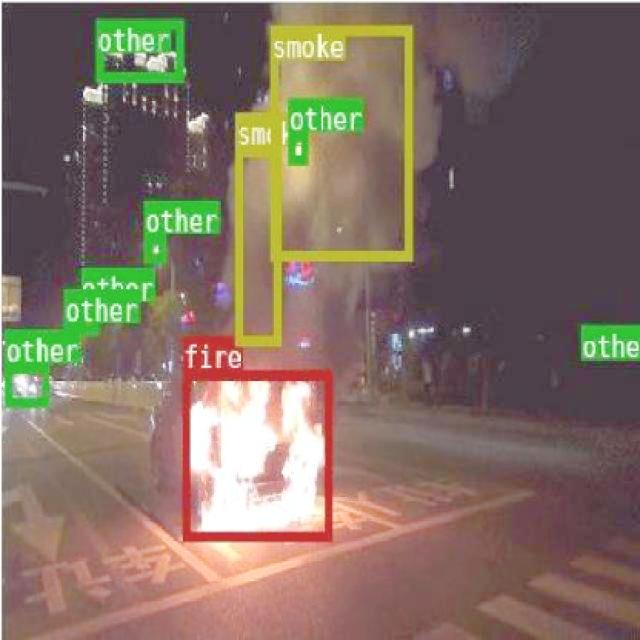fire: (182, 369, 331, 540)
smoke: (270, 23, 410, 259), (234, 144, 278, 344)
